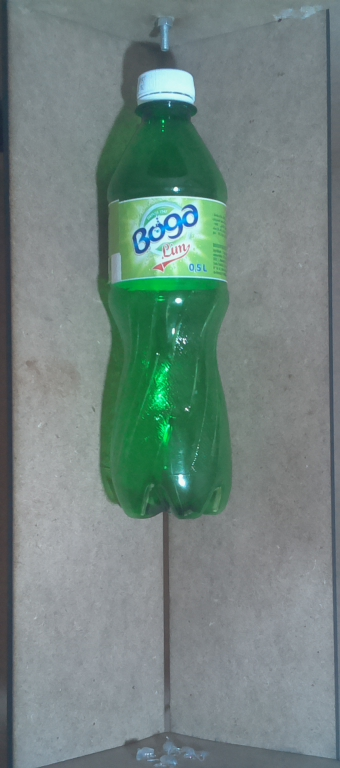Bouteille_0.5L: (94, 63, 237, 523)
